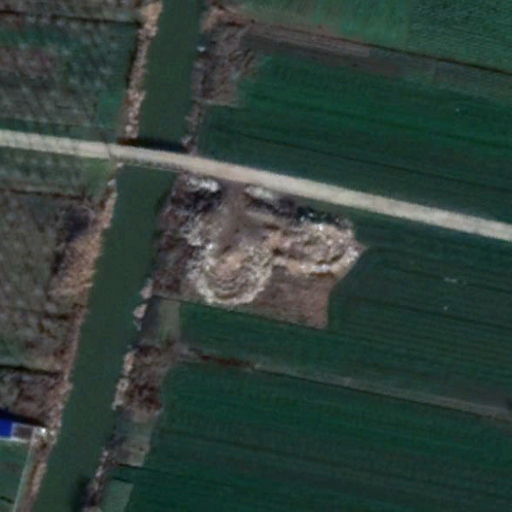msw: (178, 186, 358, 308)
